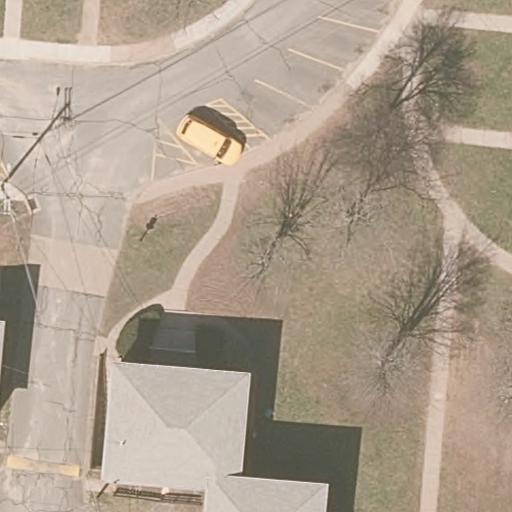DT: (1, 182, 22, 220)
